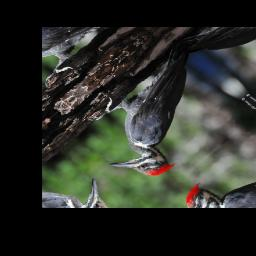Woodpecker: (67, 42, 251, 193)
